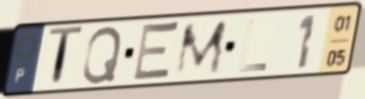1: (296, 12, 317, 71)
E: (129, 19, 183, 84)
L: (236, 17, 270, 74)
M: (172, 17, 231, 80)
Q: (80, 24, 125, 86)
T: (46, 24, 86, 91)
